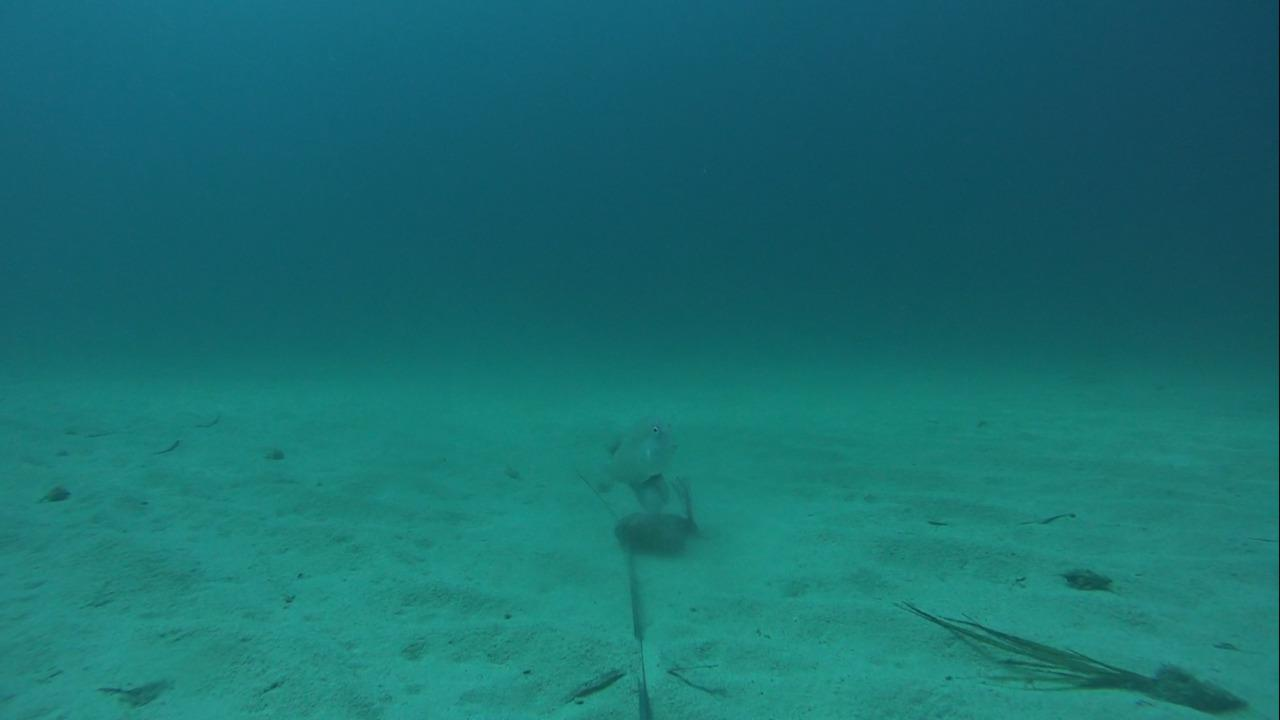raor: (577, 408, 685, 494)
